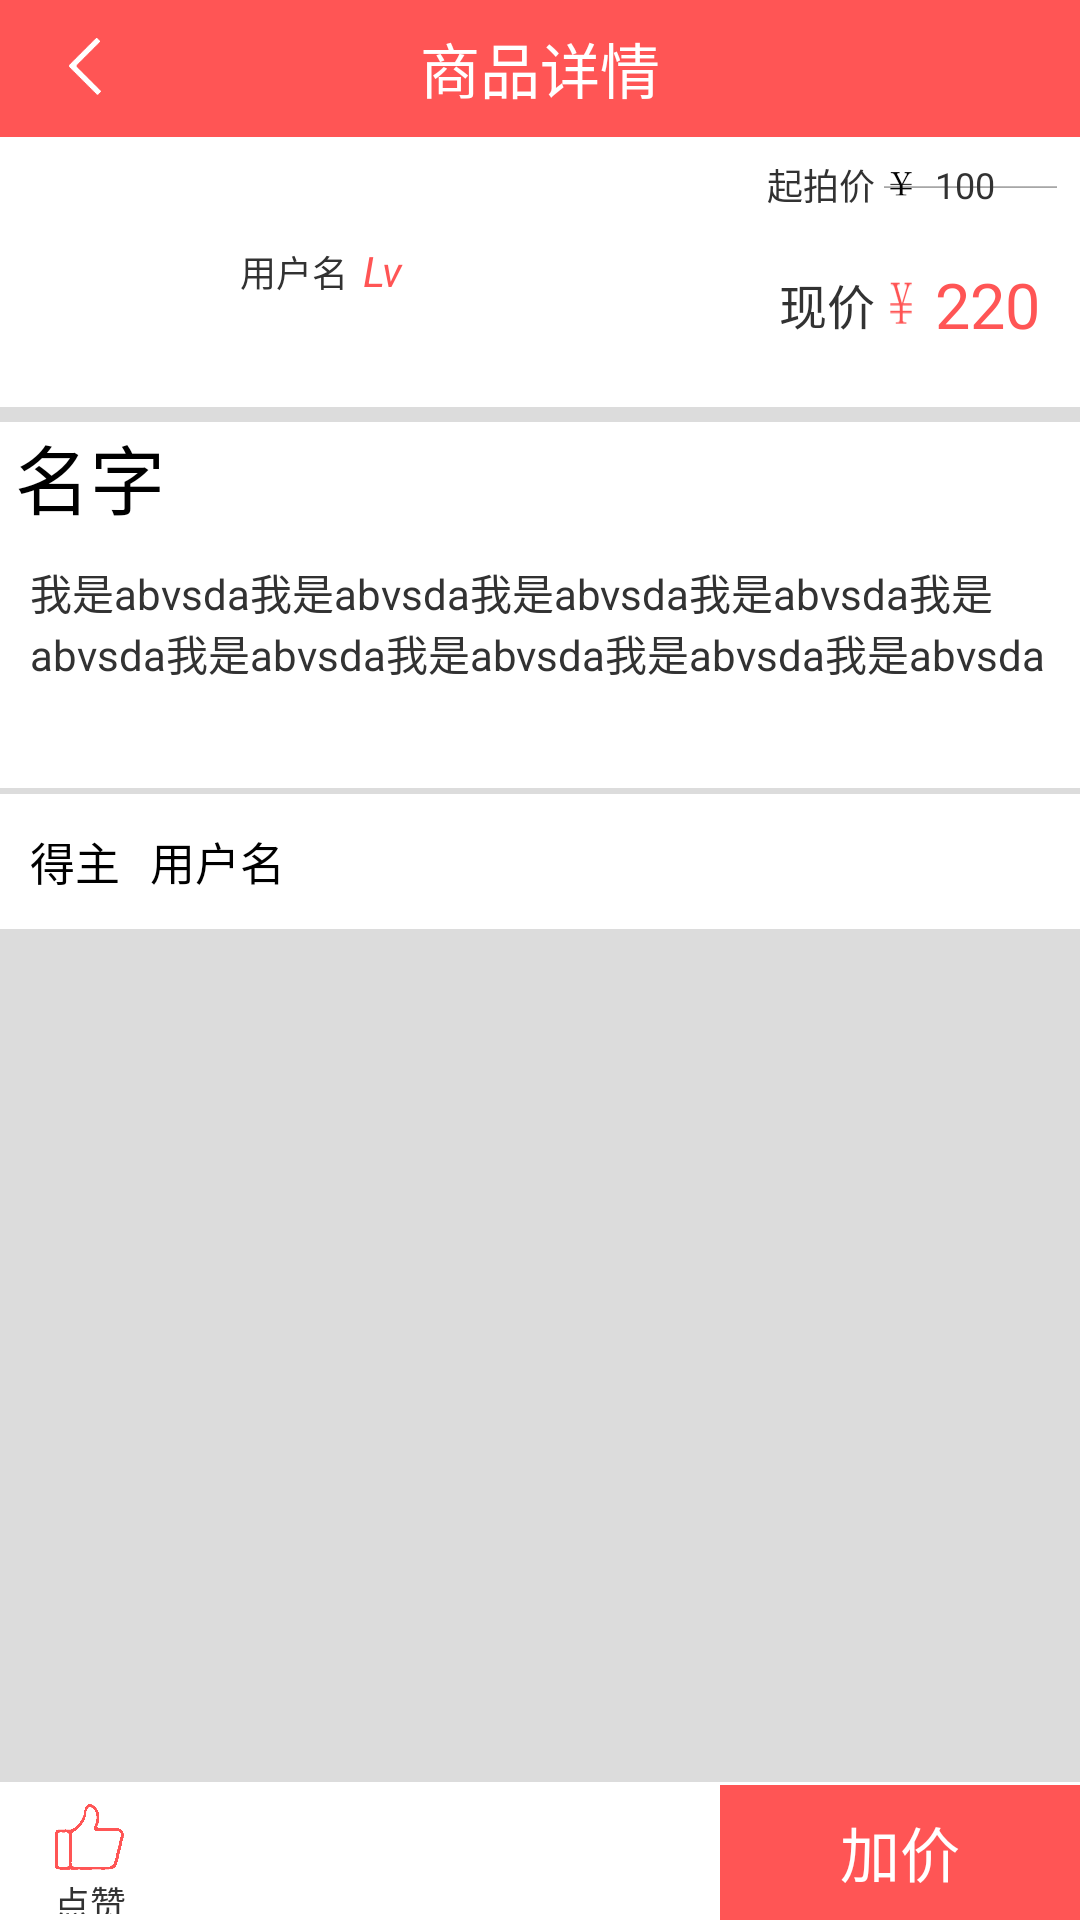

Named icons in this screenshot (1080*1920) and their bounding boxes, bbox=(x1, y1, x2, y2):
jiantou left: bbox=(69, 38, 101, 95)
